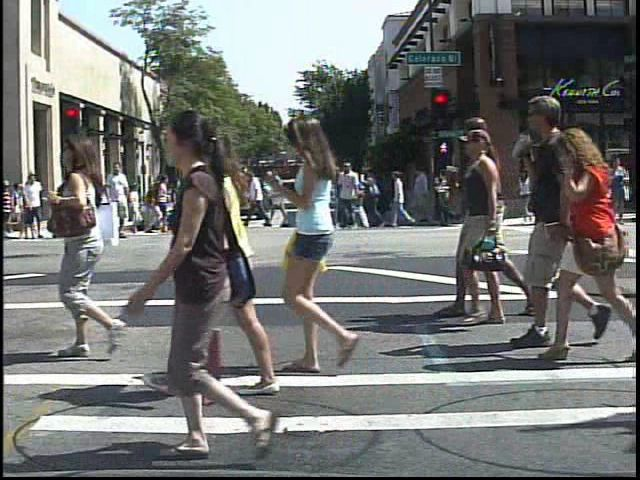person: (117, 103, 306, 470), (175, 118, 313, 399), (275, 110, 379, 376), (489, 81, 585, 353), (41, 129, 147, 366), (544, 123, 639, 360), (103, 161, 136, 242), (56, 164, 86, 242), (472, 157, 503, 229), (21, 169, 46, 242), (2, 172, 17, 240), (98, 179, 118, 223)
